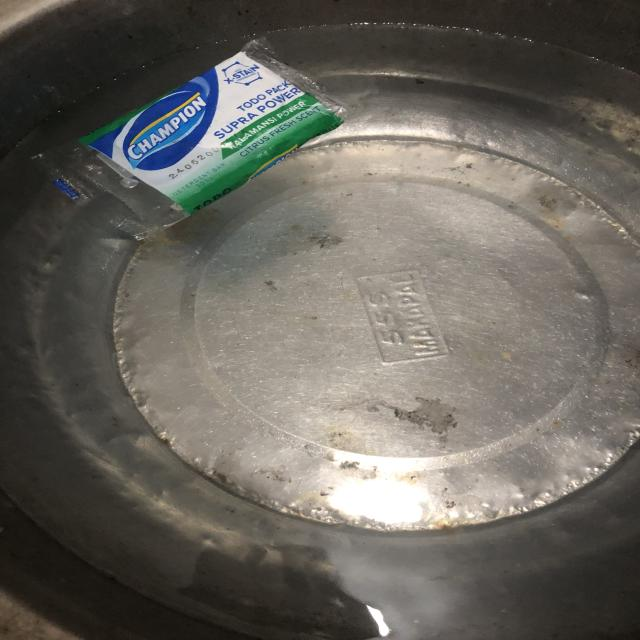Plastic Wrapper: (20, 34, 363, 242)
